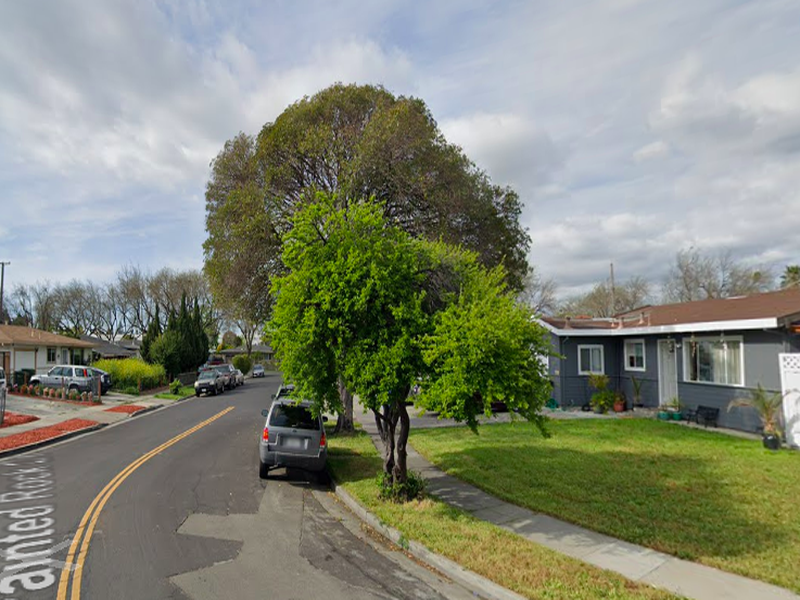tree: (201, 81, 536, 439), (258, 189, 569, 504)
